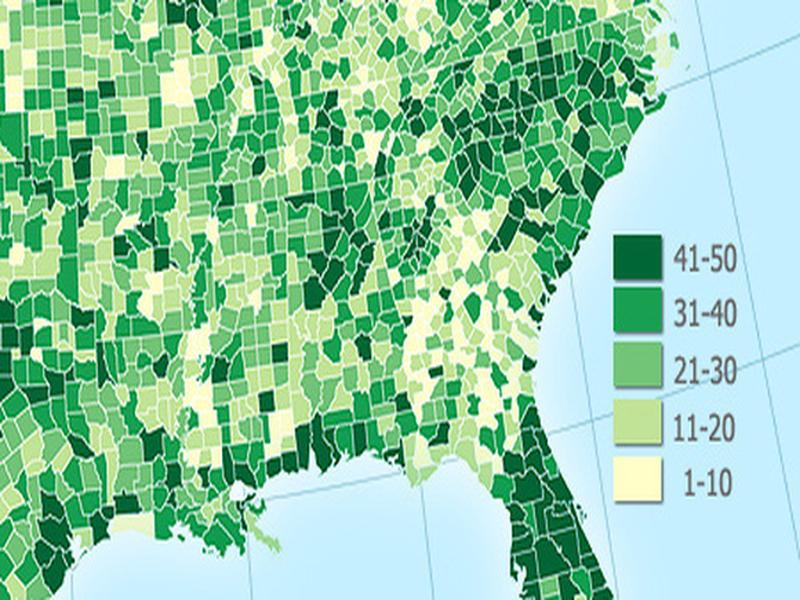legend: (606, 228, 740, 504)
